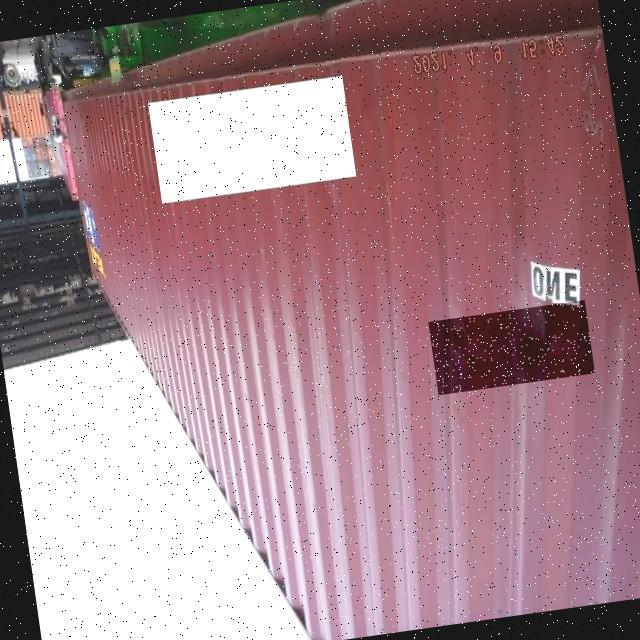Minor-Dent: (428, 300, 595, 395)
